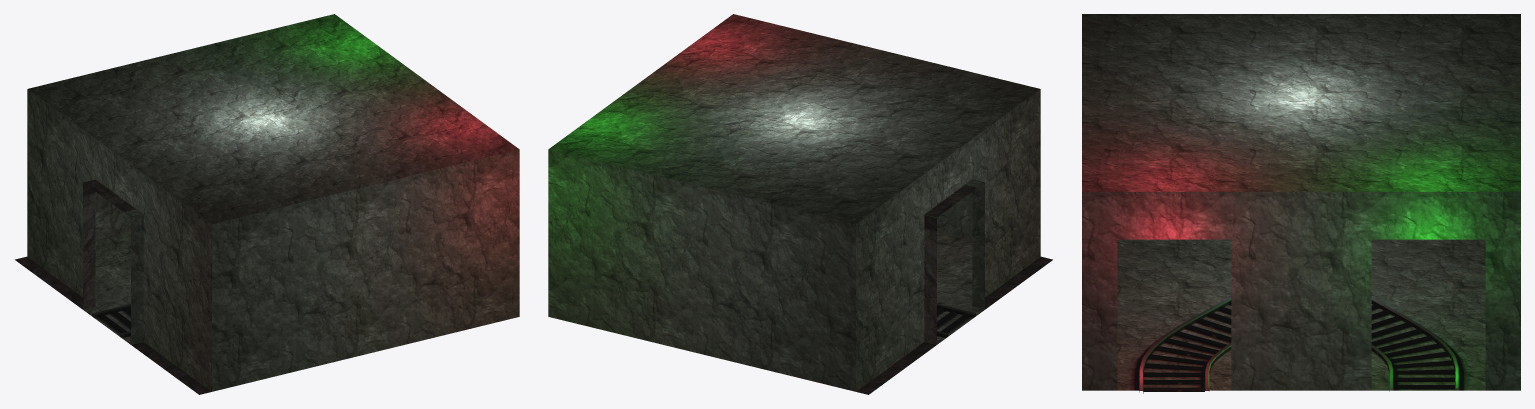
The model's file is flow-cart.glb.
3 views of the same model, side by side, from view 1: azimuth 30°, elevation 25°; view 2: azimuth 150°, elevation 25°; view 3: azimuth 270°, elevation 25° (orthographic). The views are drawn at different scales.
Parts seen in each view (by area): view 1: Room, Rails; view 2: Room, Rails; view 3: Room, Rails.
Boxes of the visible parts, x1,y1,x2,y2 form: Room: [15, 14, 519, 394]; Rails: [92, 304, 130, 337]; Room: [548, 14, 1052, 394]; Rails: [937, 304, 975, 337]; Room: [1082, 14, 1520, 390]; Rails: [1139, 297, 1459, 393].
Bounding box in the file's own units: 5.12 × 2.5 × 5.
3 materials, 3 textured.
